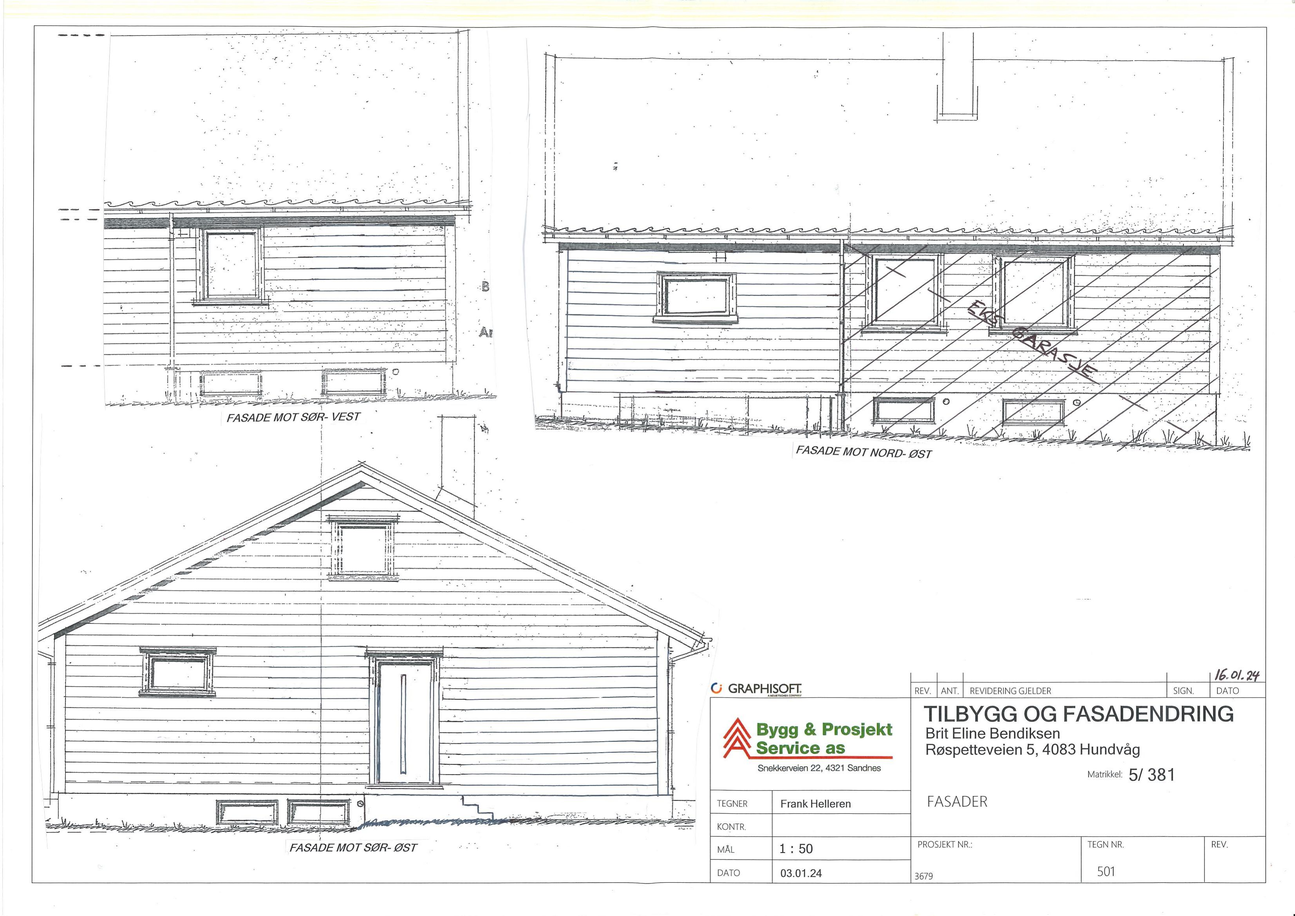fasade: (545, 32, 1238, 442), (58, 34, 466, 394)
